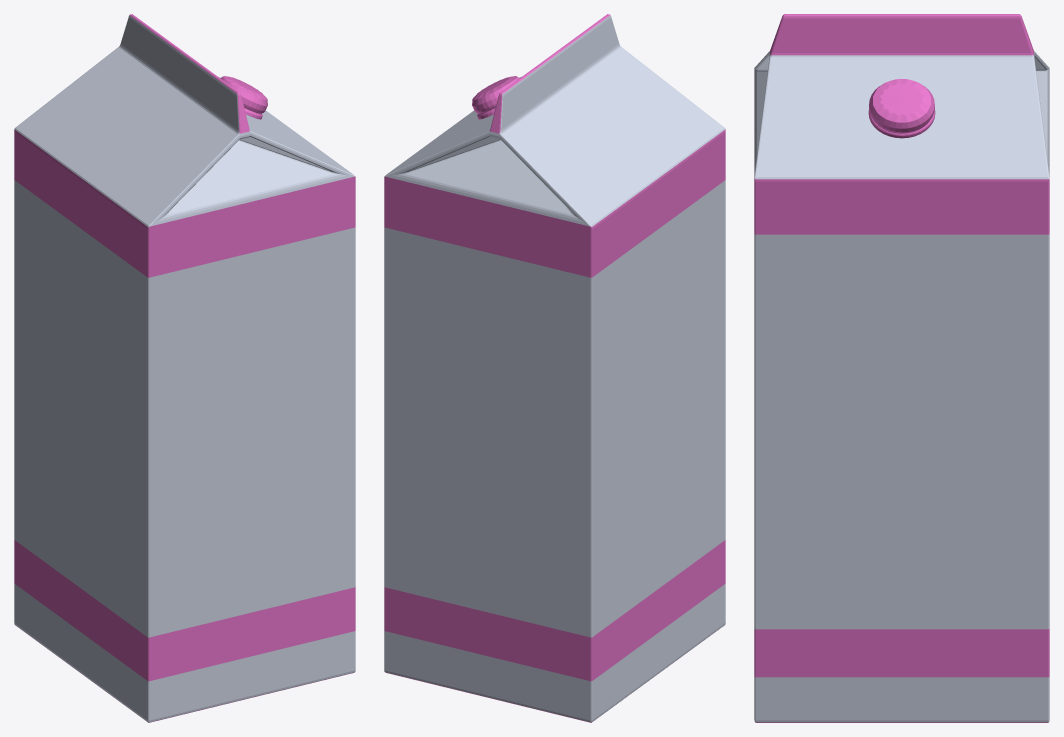
Rendered from MilkPack_Strawberry.fbx.
The picture shows the model from 3 angles, left to right: view 1: azimuth 30°, elevation 25°; view 2: azimuth 150°, elevation 25°; view 3: azimuth 270°, elevation 25°; orthographic projection. The views are drawn at different scales.
Visible parts, largest first — view 1: Carton, Dop; view 2: Carton, Dop; view 3: Carton, Dop.
Boxes of the visible parts, left/top/right/bottom form: Carton: left=14, top=14, right=355, bottom=722; Dop: left=220, top=76, right=267, bottom=119; Carton: left=384, top=14, right=725, bottom=722; Dop: left=472, top=76, right=519, bottom=119; Carton: left=754, top=14, right=1049, bottom=722; Dop: left=868, top=79, right=935, bottom=138.
Size of the model in its own units: 112 by 307 by 126.
